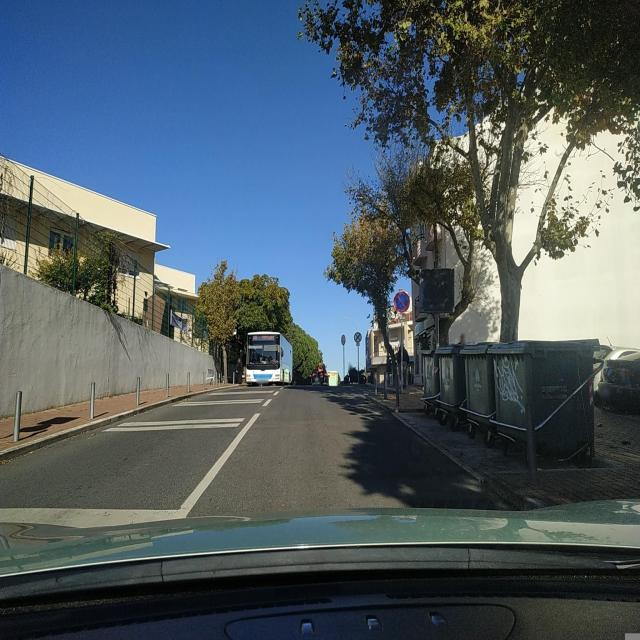forb_stopping: (393, 292, 410, 313)
